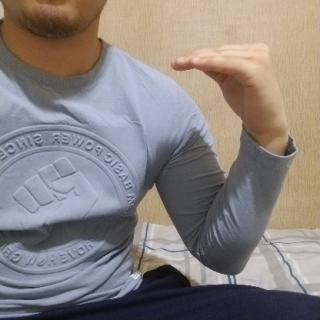HAA: (168, 39, 301, 149)
